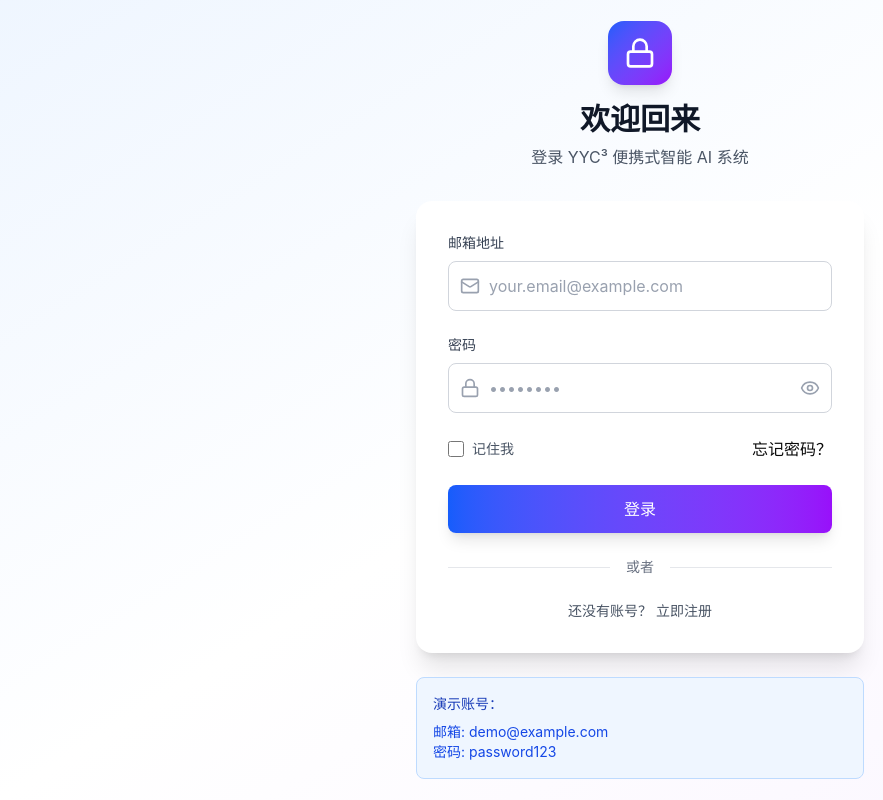
Test: LoginPage › 应该验证空密码
Type "demo@example.com" into the field with placeholder "your.email@example.com" at {"x": 640, "y": 286}, box [448,261,832,311]
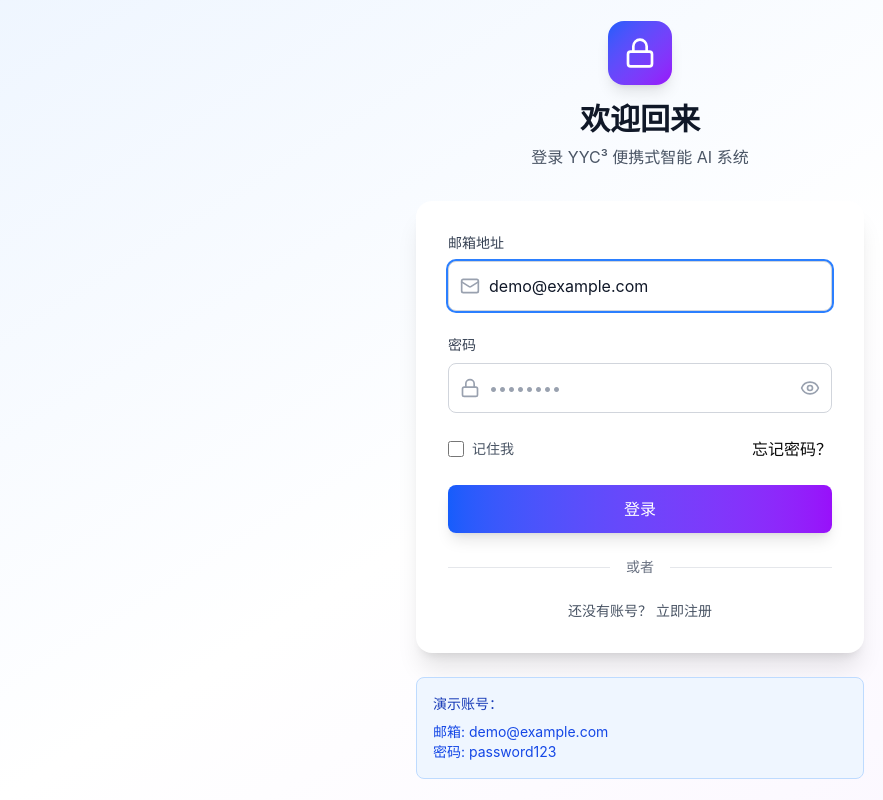
Click the button "登录" at {"x": 640, "y": 509}, box [448,485,832,533]
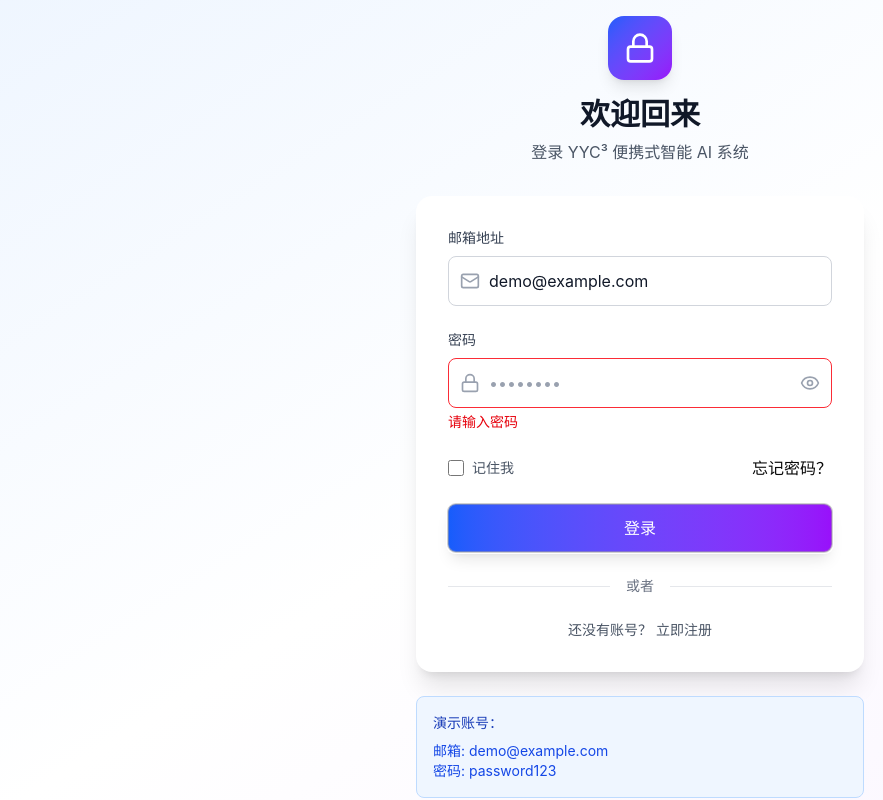
Expected: the text "请输入密码" is shown, [448,413,518,430]
